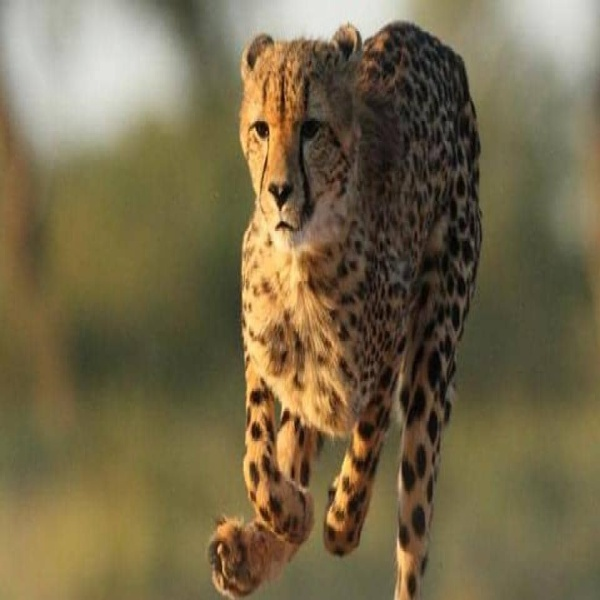Cheetah: (205, 19, 487, 596)
